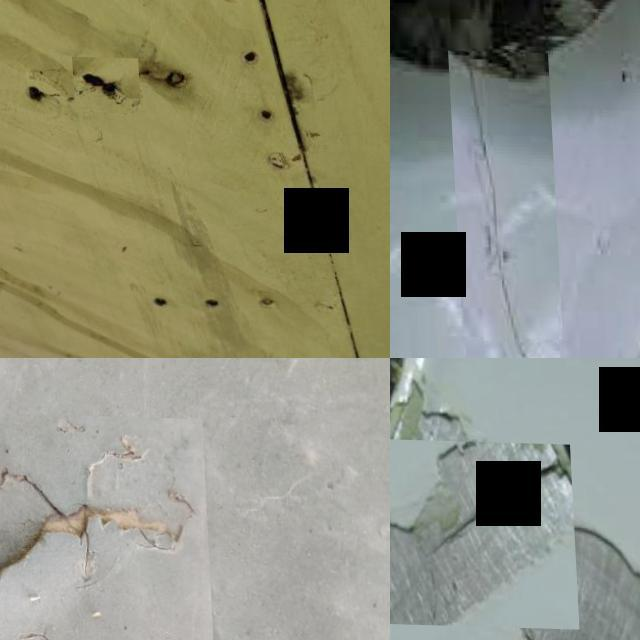Crack: (0, 410, 210, 640), (446, 49, 562, 358), (390, 437, 575, 627), (70, 55, 138, 112)
